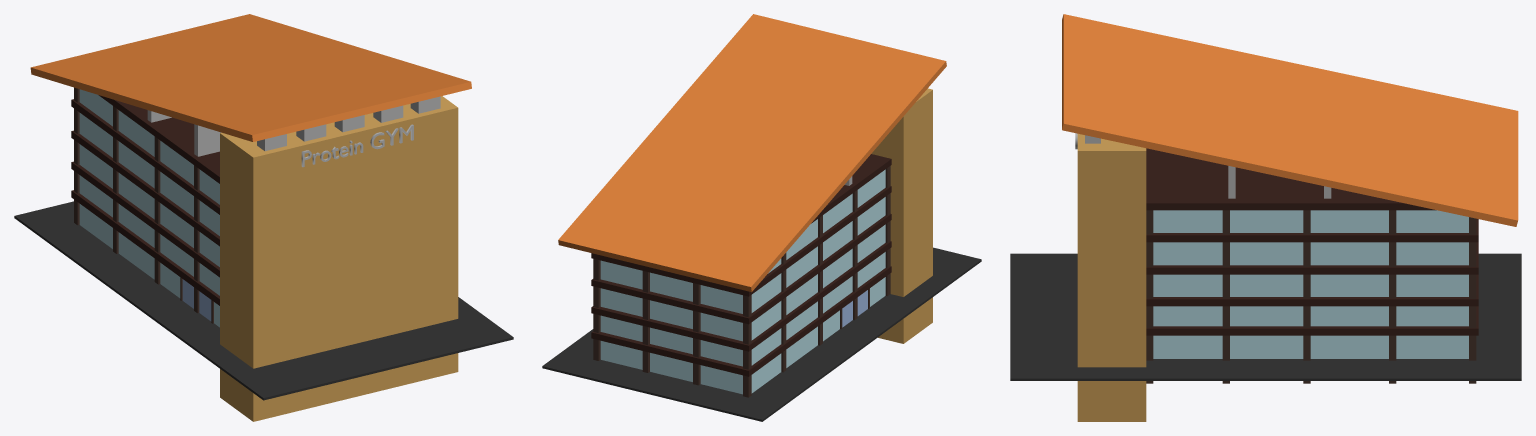
The model's file is GYM2.fbx.
The picture shows the model from 3 angles, left to right: view 1: azimuth 30°, elevation 25°; view 2: azimuth 150°, elevation 25°; view 3: azimuth 270°, elevation 25°; orthographic projection. The views are drawn at different scales.
Visible parts, largest first — view 1: Cube.002, Cube.003, Cube, Cube.001, Cube.015, Cube.019, Cube.016, Cube.017, Cube.018, Text, Cube.022, Cube.027 (+4 smaller); view 2: Cube.003, Cube.001, Cube, Cube.002, Cube.019, Cube.018, Cube.017, Cube.016, Cube.015, Cube.021, Cube.026, Cube.025 (+6 smaller); view 3: Cube.003, Cube.001, Cube, Cube.002, Cube.015, Cube.018, Cube.016, Cube.017, Cube.019, Cube.012, Cube.010, Cube.013 (+2 smaller).
Part boxes in pixels (x1=…): Cube.002: x1=220, y1=96, x2=458, y2=421; Cube.003: x1=30, y1=14, x2=471, y2=141; Cube: x1=14, y1=201, x2=513, y2=400; Cube.001: x1=79, y1=89, x2=219, y2=327; Cube.015: x1=98, y1=95, x2=219, y2=183; Cube.019: x1=71, y1=190, x2=219, y2=305; Cube.016: x1=71, y1=99, x2=219, y2=214; Cube.017: x1=71, y1=130, x2=219, y2=246; Cube.018: x1=71, y1=161, x2=219, y2=277; Text: x1=301, y1=124, x2=413, y2=167; Cube.022: x1=154, y1=136, x2=160, y2=284; Cube.027: x1=194, y1=124, x2=220, y2=156; Cube.003: x1=558, y1=14, x2=946, y2=292; Cube.001: x1=600, y1=169, x2=885, y2=394; Cube: x1=542, y1=247, x2=981, y2=421; Cube.002: x1=871, y1=88, x2=932, y2=343; Cube.019: x1=591, y1=266, x2=891, y2=376; Cube.018: x1=591, y1=241, x2=891, y2=351; Cube.017: x1=591, y1=213, x2=891, y2=324; Cube.016: x1=591, y1=186, x2=891, y2=296; Cube.015: x1=811, y1=154, x2=891, y2=223; Cube.021: x1=743, y1=295, x2=751, y2=397; Cube.026: x1=693, y1=283, x2=700, y2=385; Cube.025: x1=642, y1=271, x2=649, y2=372; Cube.003: x1=1062, y1=14, x2=1518, y2=226; Cube.001: x1=1153, y1=210, x2=1468, y2=358; Cube: x1=1010, y1=253, x2=1521, y2=380; Cube.002: x1=1077, y1=133, x2=1146, y2=421; Cube.015: x1=1146, y1=148, x2=1436, y2=210; Cube.018: x1=1146, y1=274, x2=1478, y2=306; Cube.016: x1=1146, y1=218, x2=1478, y2=242; Cube.017: x1=1146, y1=242, x2=1478, y2=274; Cube.019: x1=1146, y1=306, x2=1478, y2=335; Cube.012: x1=1303, y1=210, x2=1310, y2=383; Cube.010: x1=1146, y1=210, x2=1153, y2=383; Cube.013: x1=1389, y1=210, x2=1396, y2=383.
Bounding box in the file's own units: 7939 × 8913 × 13698.
